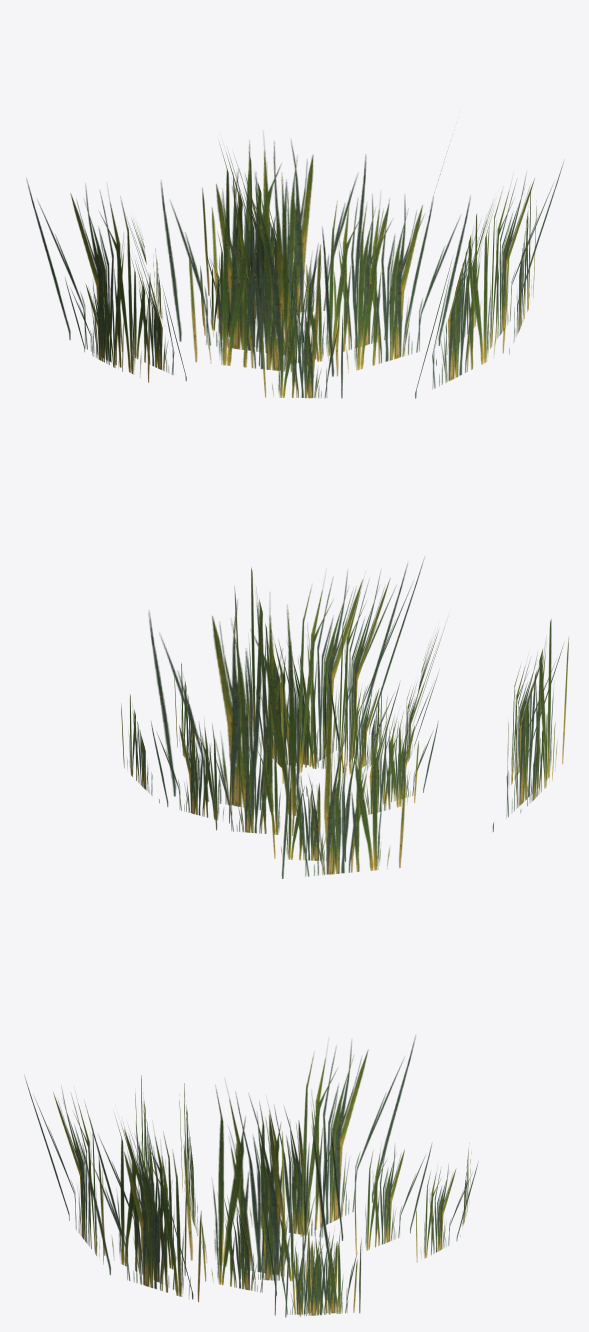
Rendered from grass.glb.
The picture shows the model from 3 angles, top to bottom: view 1: azimuth 30°, elevation 25°; view 2: azimuth 150°, elevation 25°; view 3: azimuth 270°, elevation 25°; orthographic projection. The views are drawn at different scales.
Visible parts, largest first — view 1: grass; view 2: grass; view 3: grass.
Boxes of the visible parts, <box> form: grass: <box>26,134,563,398</box>; grass: <box>121,557,568,878</box>; grass: <box>24,1035,478,1317</box>.
Size of the model in its own units: 0.9871 by 0.4311 by 1.
1 material, 1 textured.
